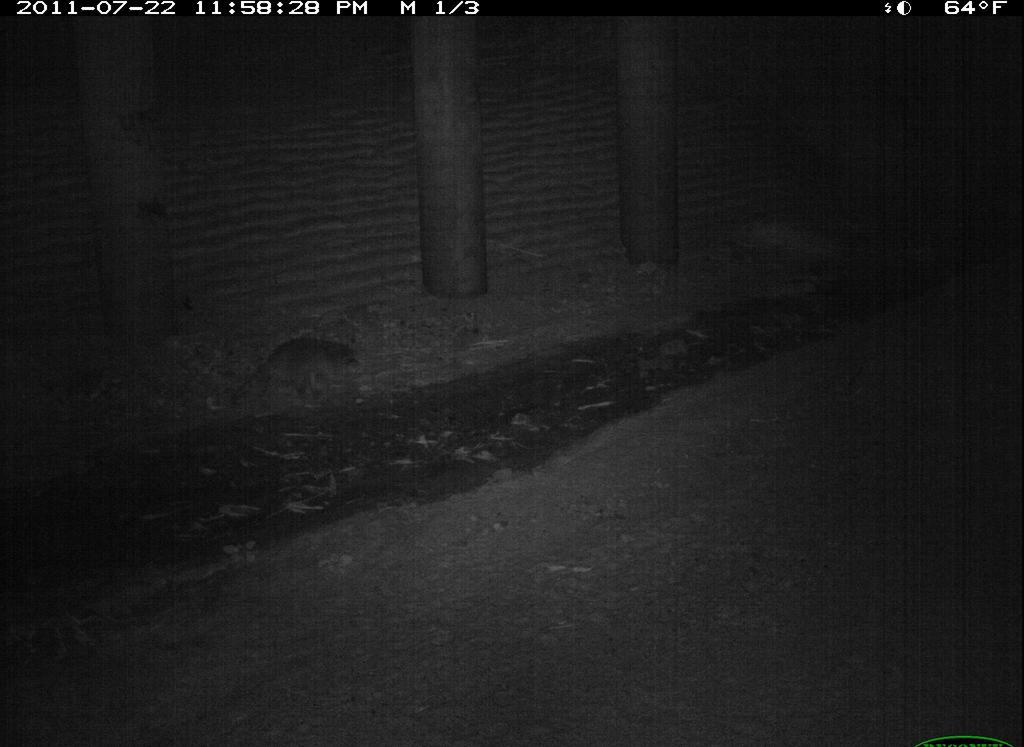raccoon: (450, 666, 741, 747)
